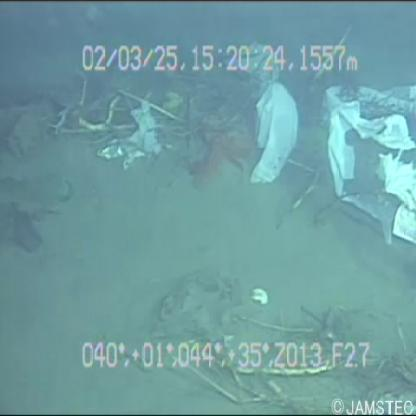Rác: (313, 67, 416, 253), (209, 29, 301, 197)
